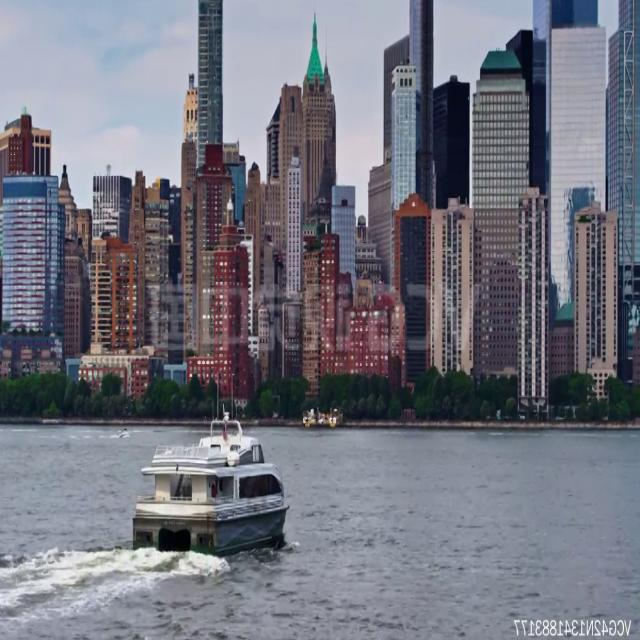houseboat: (131, 416, 288, 564), (113, 423, 130, 441)
